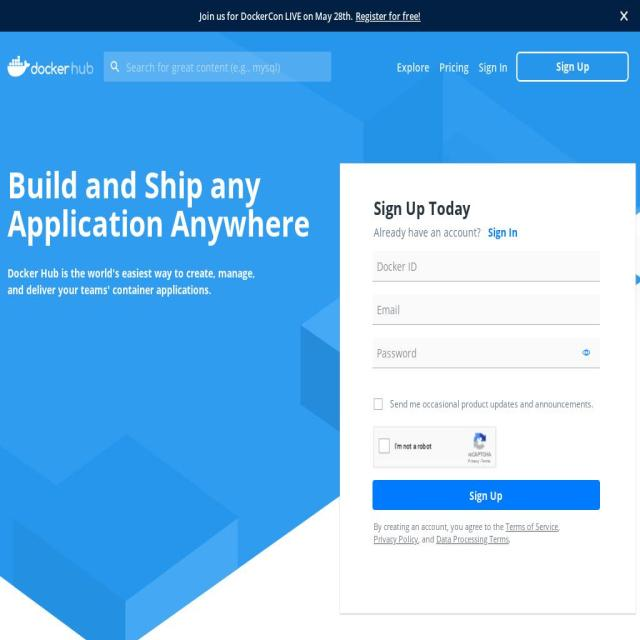button: (372, 480, 600, 510), (512, 46, 632, 86), (8, 46, 94, 86), (516, 52, 629, 82)
field: (372, 251, 600, 281), (372, 294, 600, 324), (372, 338, 600, 368), (104, 52, 331, 82)
iframe: (373, 426, 563, 492)
image: (8, 56, 94, 77), (580, 346, 592, 361), (110, 59, 120, 74), (373, 398, 382, 410)
link: (397, 46, 429, 86), (356, 8, 420, 24), (436, 533, 509, 545), (506, 520, 558, 532), (374, 533, 418, 545), (488, 224, 518, 240)
text: (8, 159, 310, 248), (8, 265, 258, 298), (374, 195, 601, 220), (390, 397, 593, 411), (199, 8, 353, 24), (374, 224, 488, 240), (374, 520, 506, 532), (439, 46, 469, 86), (478, 46, 508, 86), (418, 533, 436, 545), (620, 7, 628, 25), (558, 520, 562, 532), (508, 533, 511, 545)
